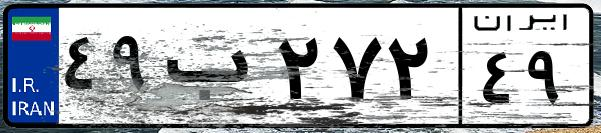2: (270, 28, 330, 110), (385, 28, 445, 110)
4: (57, 26, 110, 100), (475, 38, 525, 113)
7: (330, 28, 385, 110)
9: (525, 38, 570, 115), (110, 28, 158, 98)
ب: (158, 20, 270, 120)
